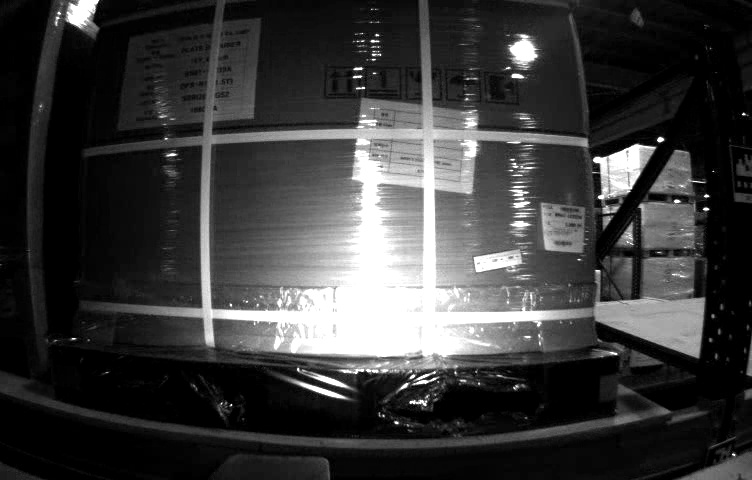True Barcode: (539, 201, 583, 252)
